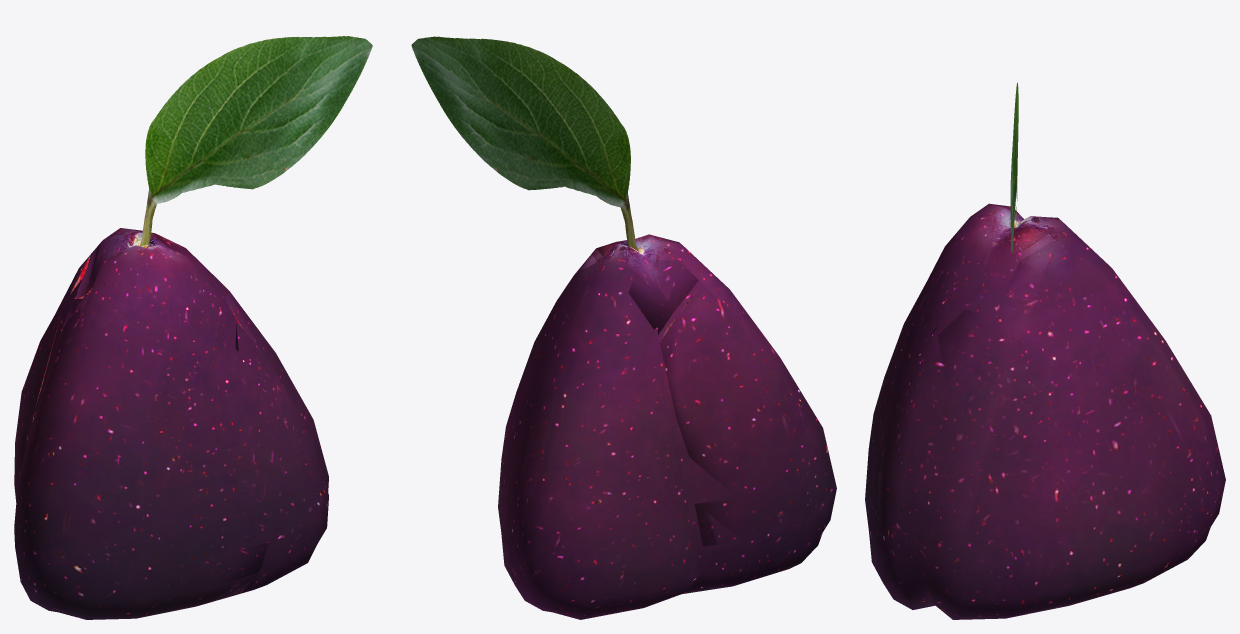
File: TrPlum.fbx
The picture shows the model from 3 angles, left to right: view 1: azimuth 30°, elevation 25°; view 2: azimuth 150°, elevation 25°; view 3: azimuth 270°, elevation 25°; orthographic projection. The views are drawn at different scales.
Visible parts, largest first — view 1: TrPlum, TrPlum_leaf, TrPlum_cell.001, TrPlum_cell, TrPlum_cell.002; view 2: TrPlum, TrPlum_cell.001, TrPlum_leaf, TrPlum_cell, TrPlum_cell.002; view 3: TrPlum, TrPlum_cell, TrPlum_cell.002, TrPlum_leaf.
Boxes of the visible parts, x1,y1,x2,y2 form: TrPlum: [14, 228, 328, 619]; TrPlum_leaf: [139, 36, 372, 246]; TrPlum_cell.001: [14, 293, 268, 619]; TrPlum_cell: [14, 255, 326, 597]; TrPlum_cell.002: [74, 233, 238, 351]; TrPlum: [498, 234, 836, 619]; TrPlum_cell.001: [659, 284, 835, 590]; TrPlum_leaf: [411, 36, 639, 252]; TrPlum_cell: [501, 254, 700, 619]; TrPlum_cell.002: [596, 234, 698, 334]; TrPlum: [865, 204, 1225, 619]; TrPlum_cell: [877, 233, 1224, 619]; TrPlum_cell.002: [924, 203, 1047, 343]; TrPlum_leaf: [1010, 82, 1018, 253].
Bounding box in the file's own units: 11.59 × 15.22 × 8.81.
